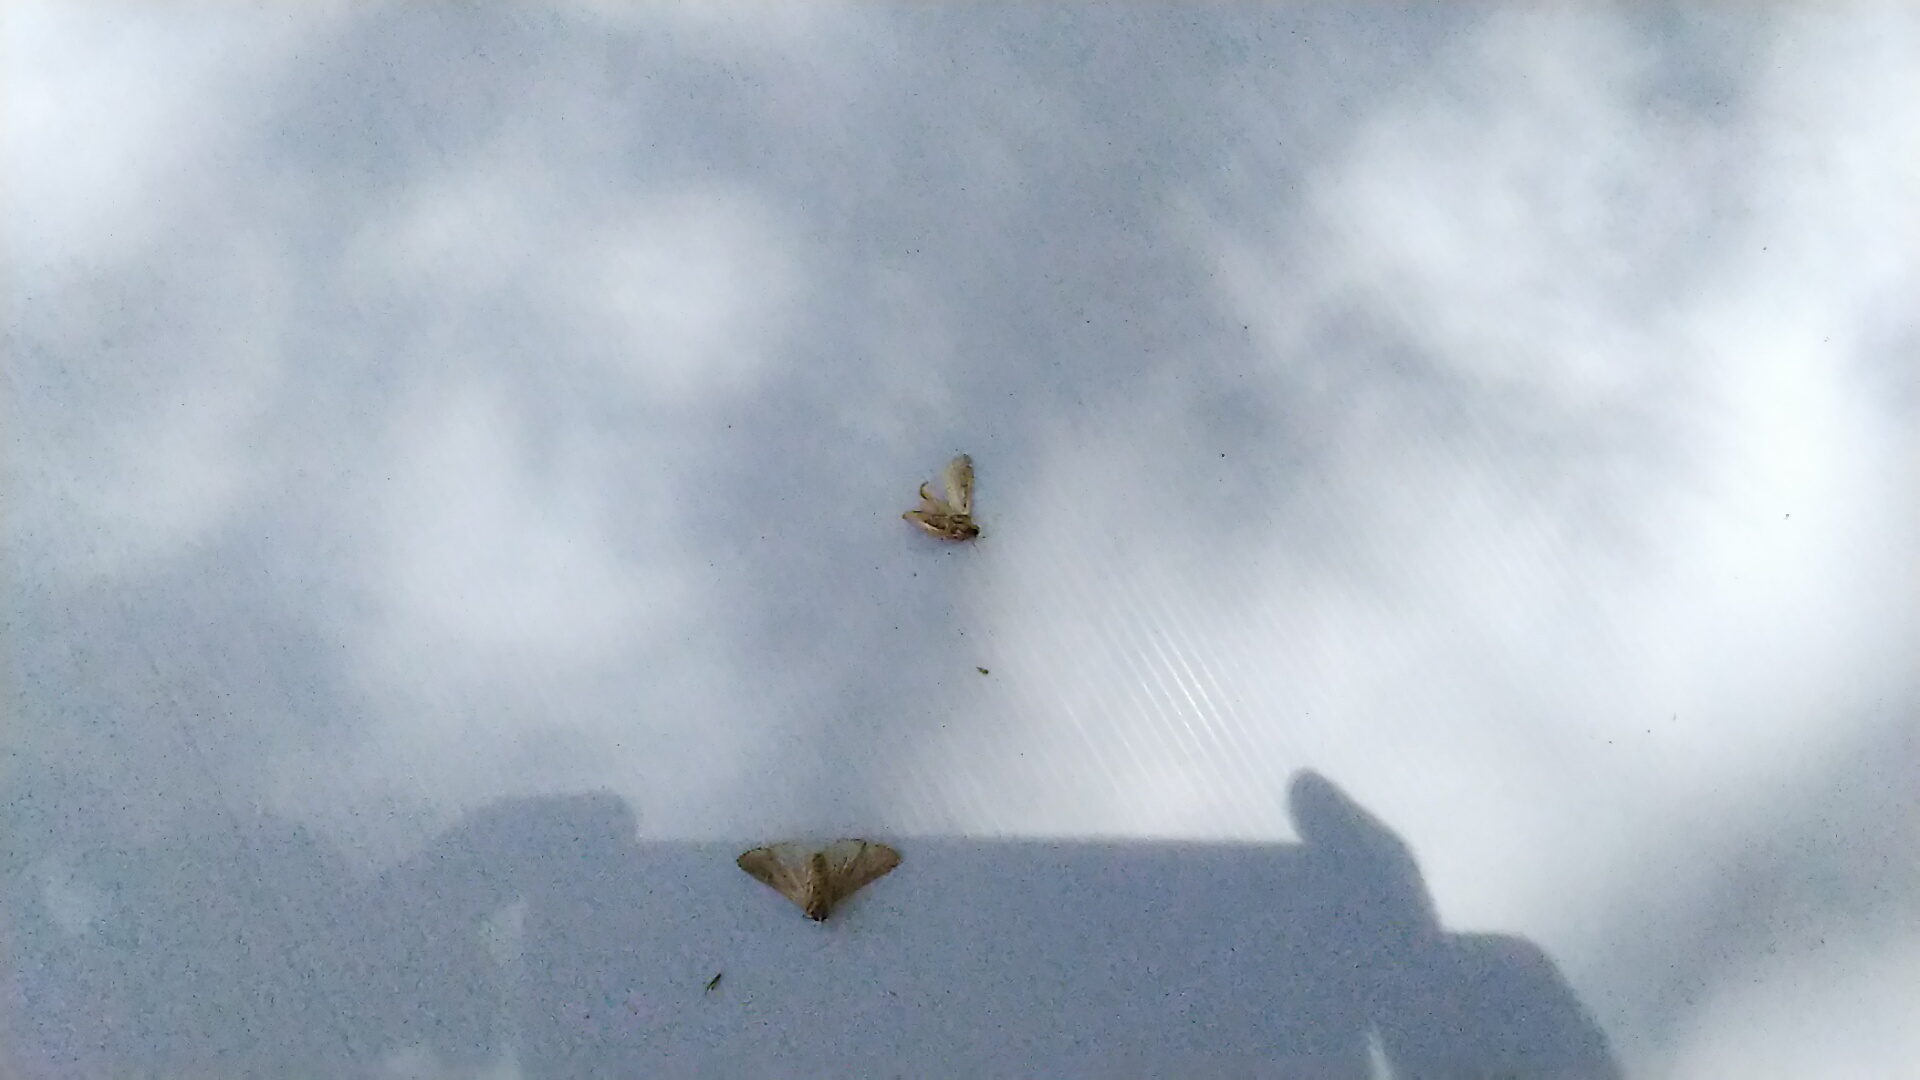INS-B: (717, 833, 931, 924), (893, 444, 997, 547)
